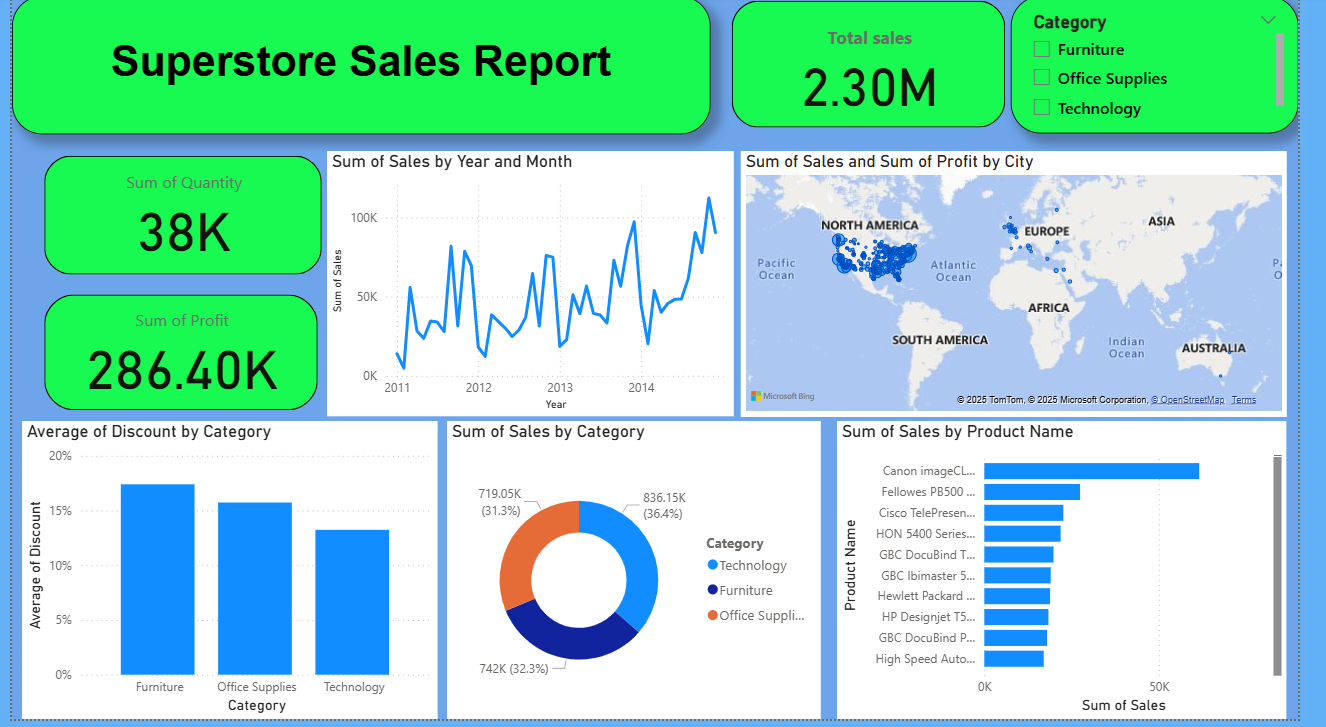

The page's visual inventory and layout, read from the dashboard file:
{"tool":"powerbi","page":{"name":"Page 1","canvas":[1280,720],"ordinal":0},"visuals":[{"type":"cardVisual","fields":{"Data":["Sum(Table1.Sales)"]},"box":[711.3,0,282.2,136.8],"z":0},{"type":"donutChart","fields":{"Category":["Table1.Category"],"Y":["Sum(Table1.Sales)"]},"box":[433.3,423.3,372,296.5],"z":1000},{"type":"lineChart","fields":{"Y":["Sum(Table1.Sales)"],"Category":["Table1.Order Date.Variation.Date Hierarchy.Year","Table1.Order Date.Variation.Date Hierarchy.Month"]},"box":[313.6,153.9,404.8,263.7],"z":2000},{"type":"clusteredBarChart","fields":{"Y":["Sum(Table1.Sales)"],"Category":["Table1.Product Name"]},"box":[821,423.3,447.6,296.5],"z":3000},{"type":"slicer","fields":{"Values":["Table1.Category"]},"box":[993.5,0,286.5,136.8],"z":4000},{"type":"cardVisual","fields":{"Data":["Sum(Table1.Quantity)"]},"box":[27.1,153.9,286.5,128.3],"z":5000},{"type":"cardVisual","fields":{"Data":["Sum(Table1.Profit)"]},"box":[27.1,292.2,282.2,125.4],"z":6000},{"type":"textbox","box":[0,0,695,137.4],"z":7000},{"type":"map","fields":{"Category":["Table1.City"],"Size":["Sum(Table1.Sales)"]},"box":[725.5,153.9,543.1,263.7],"z":8000},{"type":"clusteredColumnChart","fields":{"Category":["Table1.Category"],"Y":["Avg(Table1.Discount)"]},"box":[10,423.3,413.4,296.5],"z":9000}]}

Visuals, with their boxes in screenshot pixels (x1, y1, x2, y2), scaled from the page's 1280x720 canvas onto the 1326x727 screenshot:
cardVisual - Sum(Table1.Sales): 737, 0, 1029, 138
donutChart - Table1.Category x Sum(Table1.Sales): 449, 427, 834, 726
lineChart - Sum(Table1.Sales) x Table1.Order Date.Variation.Date Hierarchy.Year: 325, 155, 744, 422
clusteredBarChart - Sum(Table1.Sales) x Table1.Product Name: 851, 427, 1314, 726
slicer - Table1.Category: 1029, 0, 1325, 138
cardVisual - Sum(Table1.Quantity): 28, 155, 325, 285
cardVisual - Sum(Table1.Profit): 28, 295, 320, 422
textbox: 0, 0, 720, 139
map - Table1.City x Sum(Table1.Sales): 752, 155, 1314, 422
clusteredColumnChart - Table1.Category x Avg(Table1.Discount): 10, 427, 439, 726
